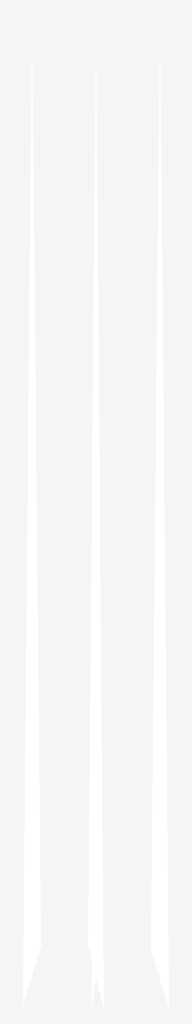
Rendered from cannon0.glb.
The picture shows the model from 3 angles, left to right: view 1: azimuth 90°, elevation 25°; view 2: azimuth 150°, elevation 25°; view 3: azimuth 270°, elevation 25°; orthographic projection.
Visible parts, largest first — view 1: group_13; view 2: group_13; view 3: group_13.
Boxes of the visible parts, left/top/right/bottom form: group_13: left=23, top=31, right=40, bottom=1004; group_13: left=88, top=34, right=103, bottom=1009; group_13: left=151, top=31, right=168, bottom=1008.
Size of the model in its own units: 40 by 2400 by 40.
1 material, 1 textured.
